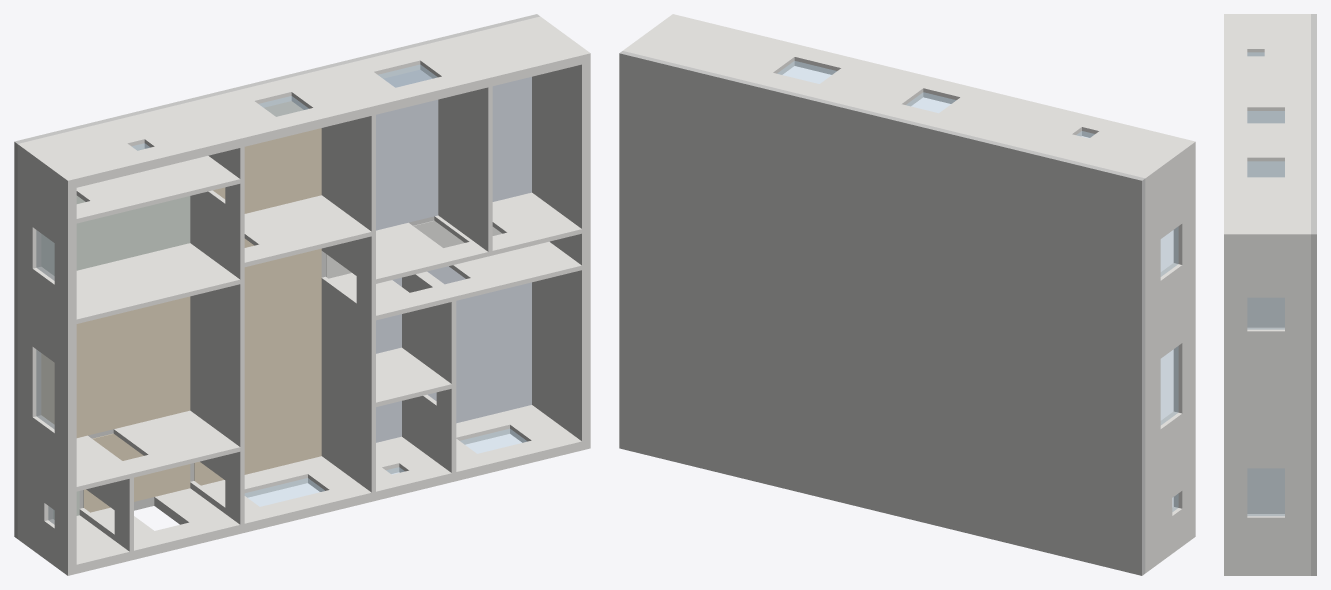
The model's file is family_seed3.glb.
The picture shows the model from 3 angles, left to right: view 1: azimuth 30°, elevation 25°; view 2: azimuth 150°, elevation 25°; view 3: azimuth 270°, elevation 25°; orthographic projection. The views are drawn at different scales.
Parts seen in each view (by area): view 1: wall_6, wall_2, wall_8, wall_5, floor_living1, floor_salon1, wall_4, floor_master1, wall_3, wall_1, floor_bedroom1, floor_kitchen1 (+29 smaller); view 2: slab, wall_3, wall_6, wall_4, wall_5, wall_2, wall_1, wall_0, lintel_13, glass_13, sill_13, lintel_22 (+4 smaller); view 3: wall_6, wall_4, wall_5, slab, wall_3, glass_19, sill_19, glass_23, lintel_19, sill_23, lintel_23, glass_22 (+7 smaller).
Part boxes in pixels (box(x1,y1,x2,y2)): wall_6: box(405, 16, 590, 459); wall_2: box(17, 190, 248, 491); wall_8: box(293, 271, 459, 508); wall_5: box(244, 61, 458, 286); floor_living1: box(194, 238, 321, 485); floor_salon1: box(41, 296, 190, 437); wall_4: box(76, 90, 289, 216); floor_master1: box(427, 266, 531, 423); wall_3: box(17, 124, 150, 252); wall_1: box(17, 406, 137, 521); floor_bedroom1: box(376, 70, 438, 230); floor_kitchen1: box(41, 195, 190, 275); slab: box(619, 51, 1145, 575); wall_3: box(1063, 121, 1195, 250); wall_6: box(623, 14, 807, 83); wall_4: box(924, 87, 1094, 153); wall_5: box(805, 58, 936, 114); wall_2: box(1145, 255, 1195, 369); wall_1: box(1145, 404, 1195, 517); wall_0: box(1145, 499, 1195, 573); lintel_13: box(1173, 333, 1195, 413); glass_13: box(1161, 346, 1178, 424); sill_13: box(1145, 359, 1160, 440); lintel_22: box(794, 47, 854, 74); wall_6: box(1224, 177, 1310, 575); wall_4: box(1224, 56, 1310, 123); wall_5: box(1224, 123, 1310, 177); slab: box(1311, 14, 1316, 575); wall_3: box(1224, 14, 1310, 56); glass_19: box(1247, 468, 1284, 515); sill_19: box(1285, 468, 1310, 517); glass_23: box(1247, 298, 1284, 329); lintel_19: box(1224, 468, 1247, 517); sill_23: box(1285, 297, 1310, 331); lintel_23: box(1224, 297, 1247, 331); glass_22: box(1247, 161, 1284, 176).
Size of the model in its own units: 18 by 13 by 3.2.
